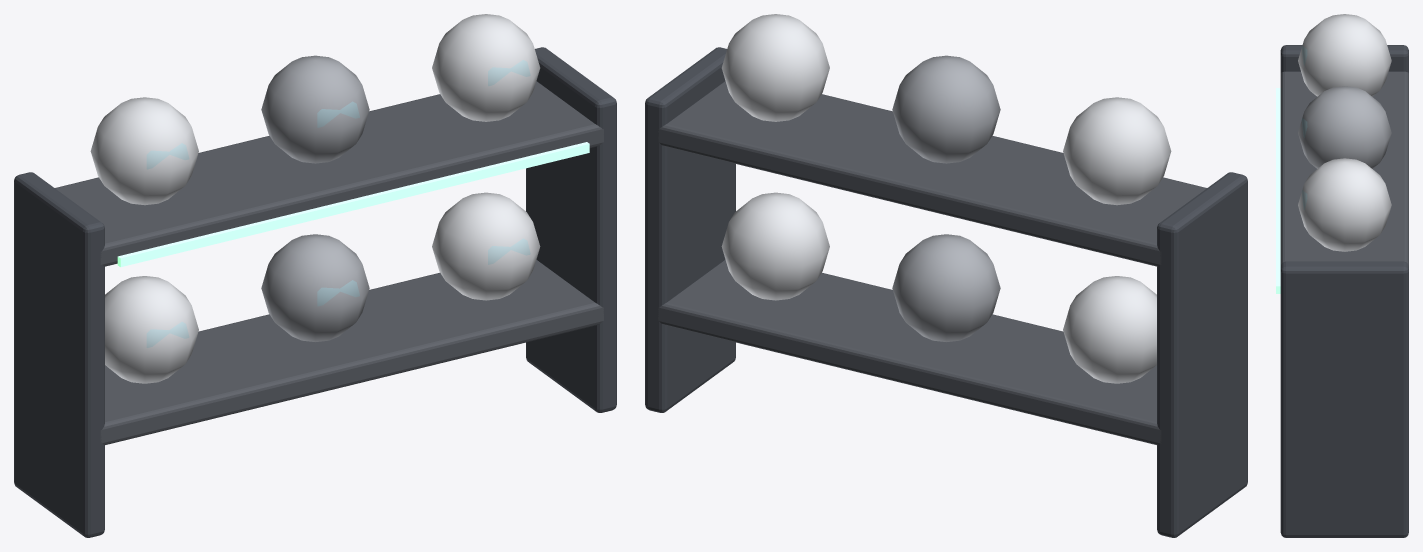
The model's file is suit_rack_helmet_shelf.glb.
The picture shows the model from 3 angles, left to right: view 1: azimuth 30°, elevation 25°; view 2: azimuth 150°, elevation 25°; view 3: azimuth 270°, elevation 25°; orthographic projection. The views are drawn at different scales.
Parts seen in each view (by area): view 1: GD_suit_rack_helmet_shelf__m0, GD_suit_rack_helmet_shelf__m5, GD_suit_rack_helmet_shelf__m3, GD_suit_rack_helmet_shelf__m1, GD_suit_rack_helmet_shelf__m4, GD_suit_rack_helmet_shelf__m2; view 2: GD_suit_rack_helmet_shelf__m0, GD_suit_rack_helmet_shelf__m5, GD_suit_rack_helmet_shelf__m3, GD_suit_rack_helmet_shelf__m1; view 3: GD_suit_rack_helmet_shelf__m5, GD_suit_rack_helmet_shelf__m3, GD_suit_rack_helmet_shelf__m0, GD_suit_rack_helmet_shelf__m1, GD_suit_rack_helmet_shelf__m4, GD_suit_rack_helmet_shelf__m2.
Part boxes in pixels (box(x1,y1,x2,y2)): GD_suit_rack_helmet_shelf__m0: box(55, 81, 603, 444); GD_suit_rack_helmet_shelf__m5: box(14, 47, 616, 537); GD_suit_rack_helmet_shelf__m3: box(90, 14, 540, 383); GD_suit_rack_helmet_shelf__m1: box(261, 55, 369, 341); GD_suit_rack_helmet_shelf__m4: box(117, 142, 589, 267); GD_suit_rack_helmet_shelf__m2: box(147, 60, 530, 347); GD_suit_rack_helmet_shelf__m0: box(658, 81, 1206, 444); GD_suit_rack_helmet_shelf__m5: box(645, 47, 1247, 537); GD_suit_rack_helmet_shelf__m3: box(721, 14, 1171, 383); GD_suit_rack_helmet_shelf__m1: box(892, 55, 1000, 341); GD_suit_rack_helmet_shelf__m5: box(1280, 45, 1408, 537); GD_suit_rack_helmet_shelf__m3: box(1298, 14, 1391, 251); GD_suit_rack_helmet_shelf__m0: box(1280, 71, 1408, 266); GD_suit_rack_helmet_shelf__m1: box(1298, 86, 1391, 168); GD_suit_rack_helmet_shelf__m4: box(1276, 88, 1280, 293); GD_suit_rack_helmet_shelf__m2: box(1302, 46, 1306, 209).
Size of the model in its own units: 1.25 by 0.87 by 0.311.
